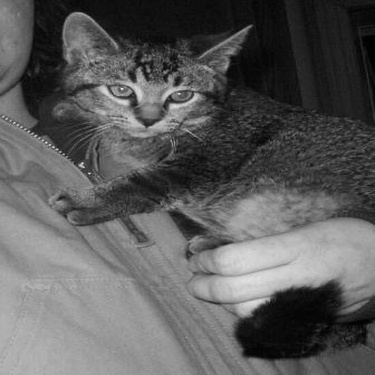cat: (33, 7, 365, 351)
